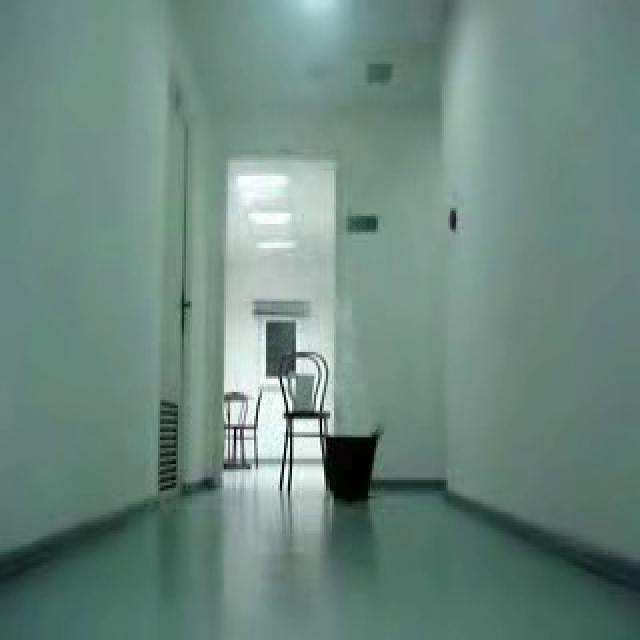Smoke: (262, 257, 416, 469)
